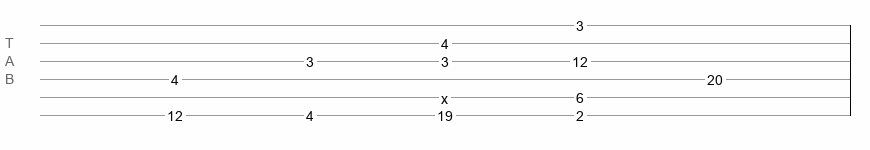12: (167, 108, 183, 118), (572, 54, 588, 64)
19: (437, 108, 453, 118)
2: (576, 108, 584, 118)
20: (707, 72, 723, 82)
3: (306, 54, 314, 64), (441, 54, 449, 64), (576, 18, 584, 28)
4: (171, 72, 179, 82), (306, 108, 314, 118), (441, 36, 449, 46)
6: (576, 90, 584, 100)
x: (441, 91, 448, 99)
